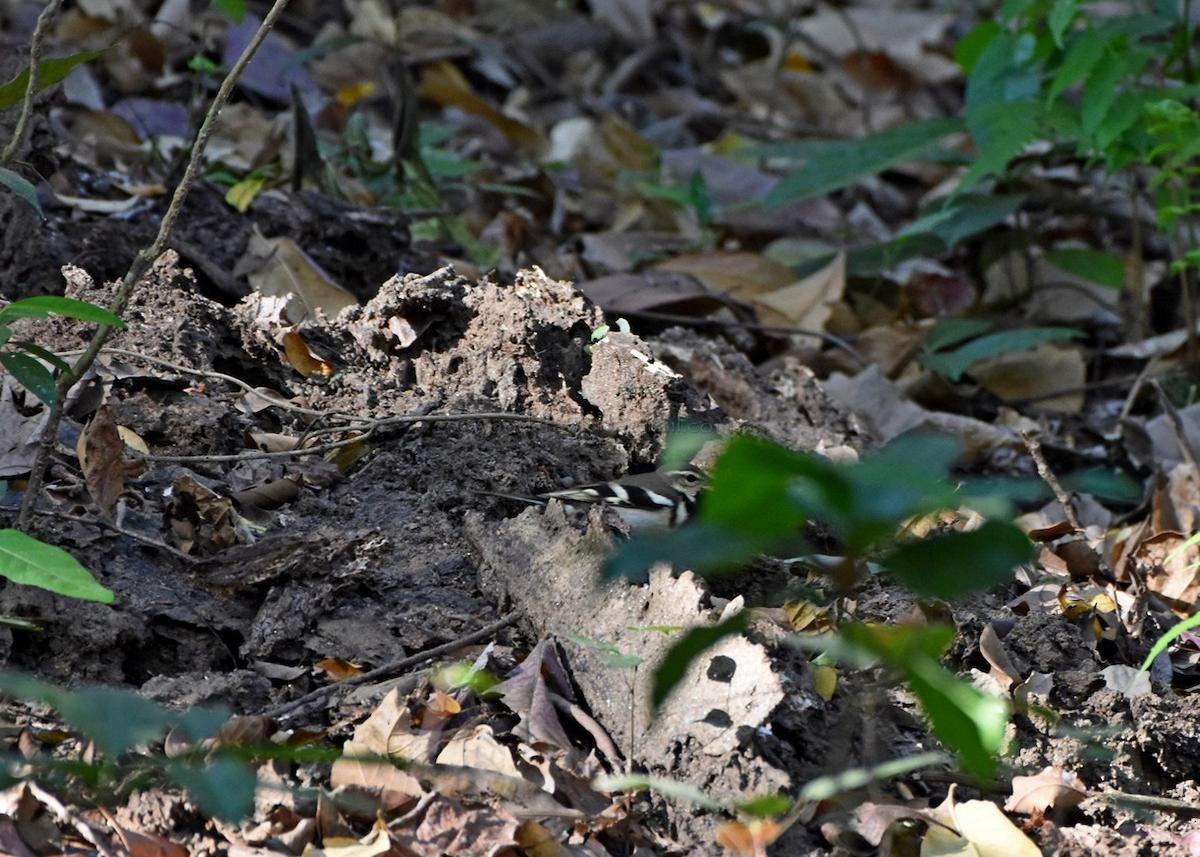wagtail: (555, 458, 710, 549)
